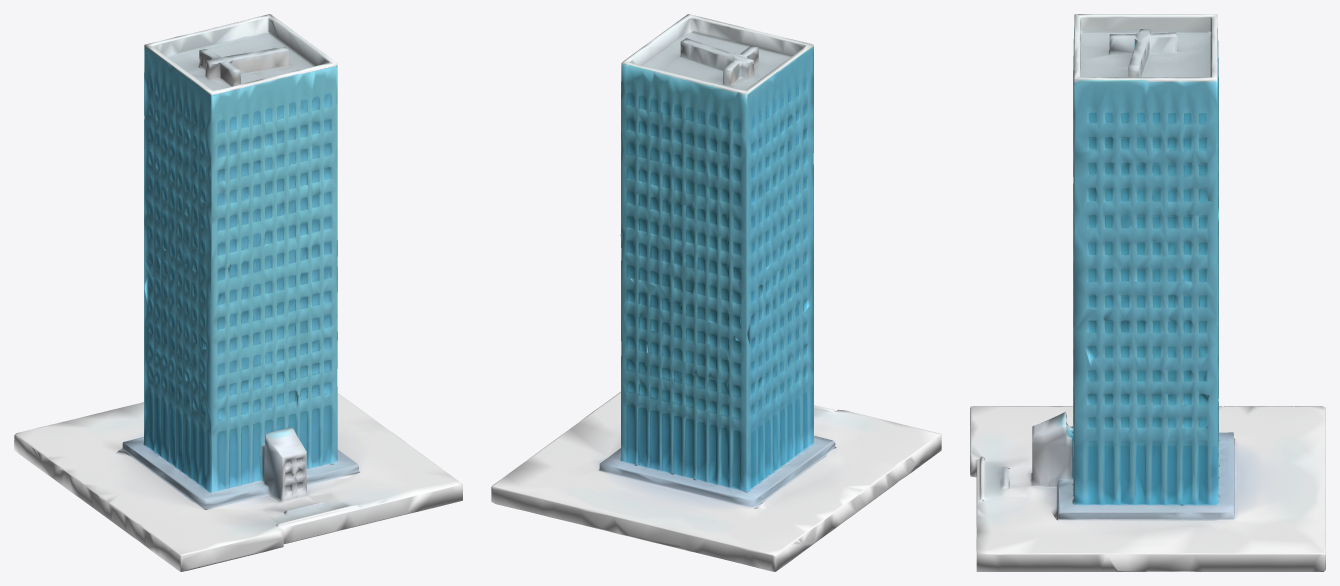
Rendered from barracks.glb.
3 views of the same model, side by side, from view 1: azimuth 30°, elevation 25°; view 2: azimuth 150°, elevation 25°; view 3: azimuth 270°, elevation 25° (orthographic). The views are drawn at different scales.
Bounding box in the file's own units: 1.35 × 1.91 × 1.37.
1 material, 1 textured.
